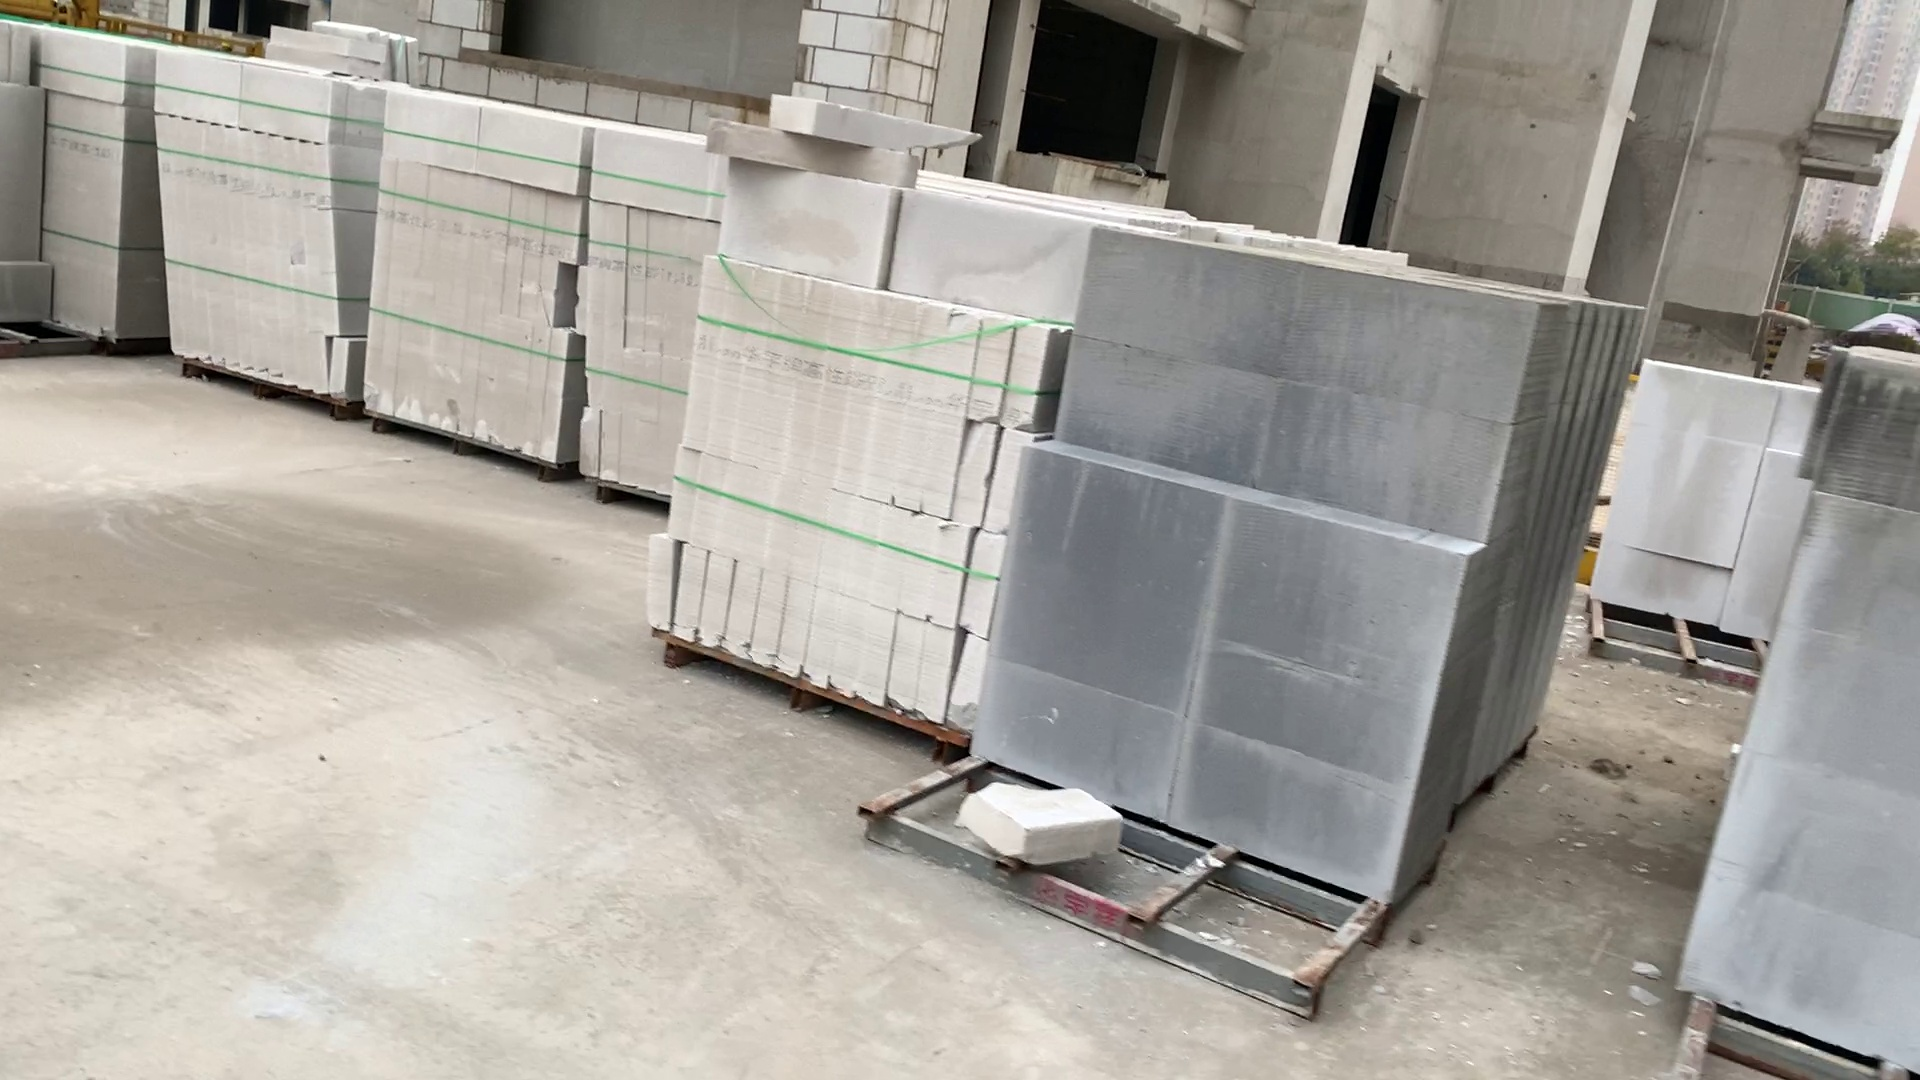brickwork: (992, 207, 1602, 915), (658, 169, 1106, 735), (1706, 328, 1920, 1065), (365, 92, 562, 473), (154, 50, 363, 400), (1611, 335, 1789, 669), (574, 129, 716, 493), (3, 22, 149, 338)
